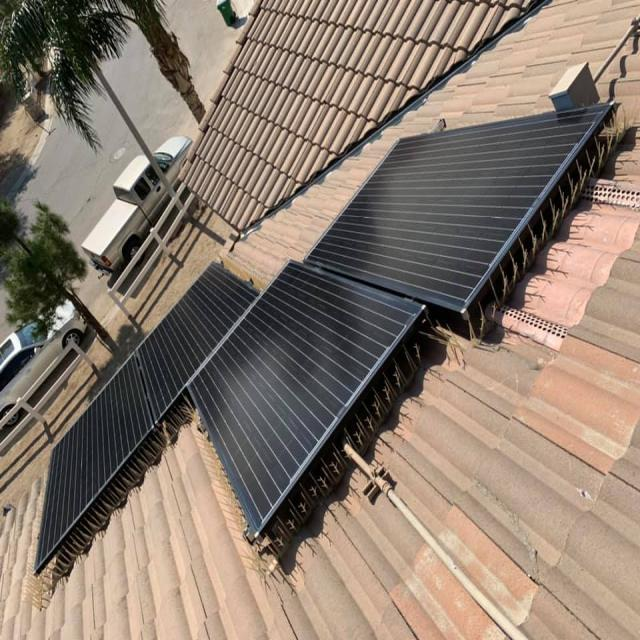clean-solar-panel: (35, 263, 256, 572), (190, 262, 422, 533), (308, 105, 611, 312)
